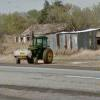Tractor: (6, 26, 66, 78)
